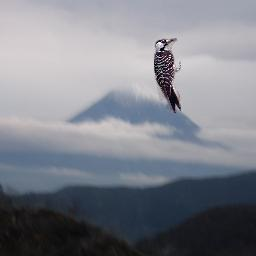Woodpecker: (154, 38, 181, 114)
